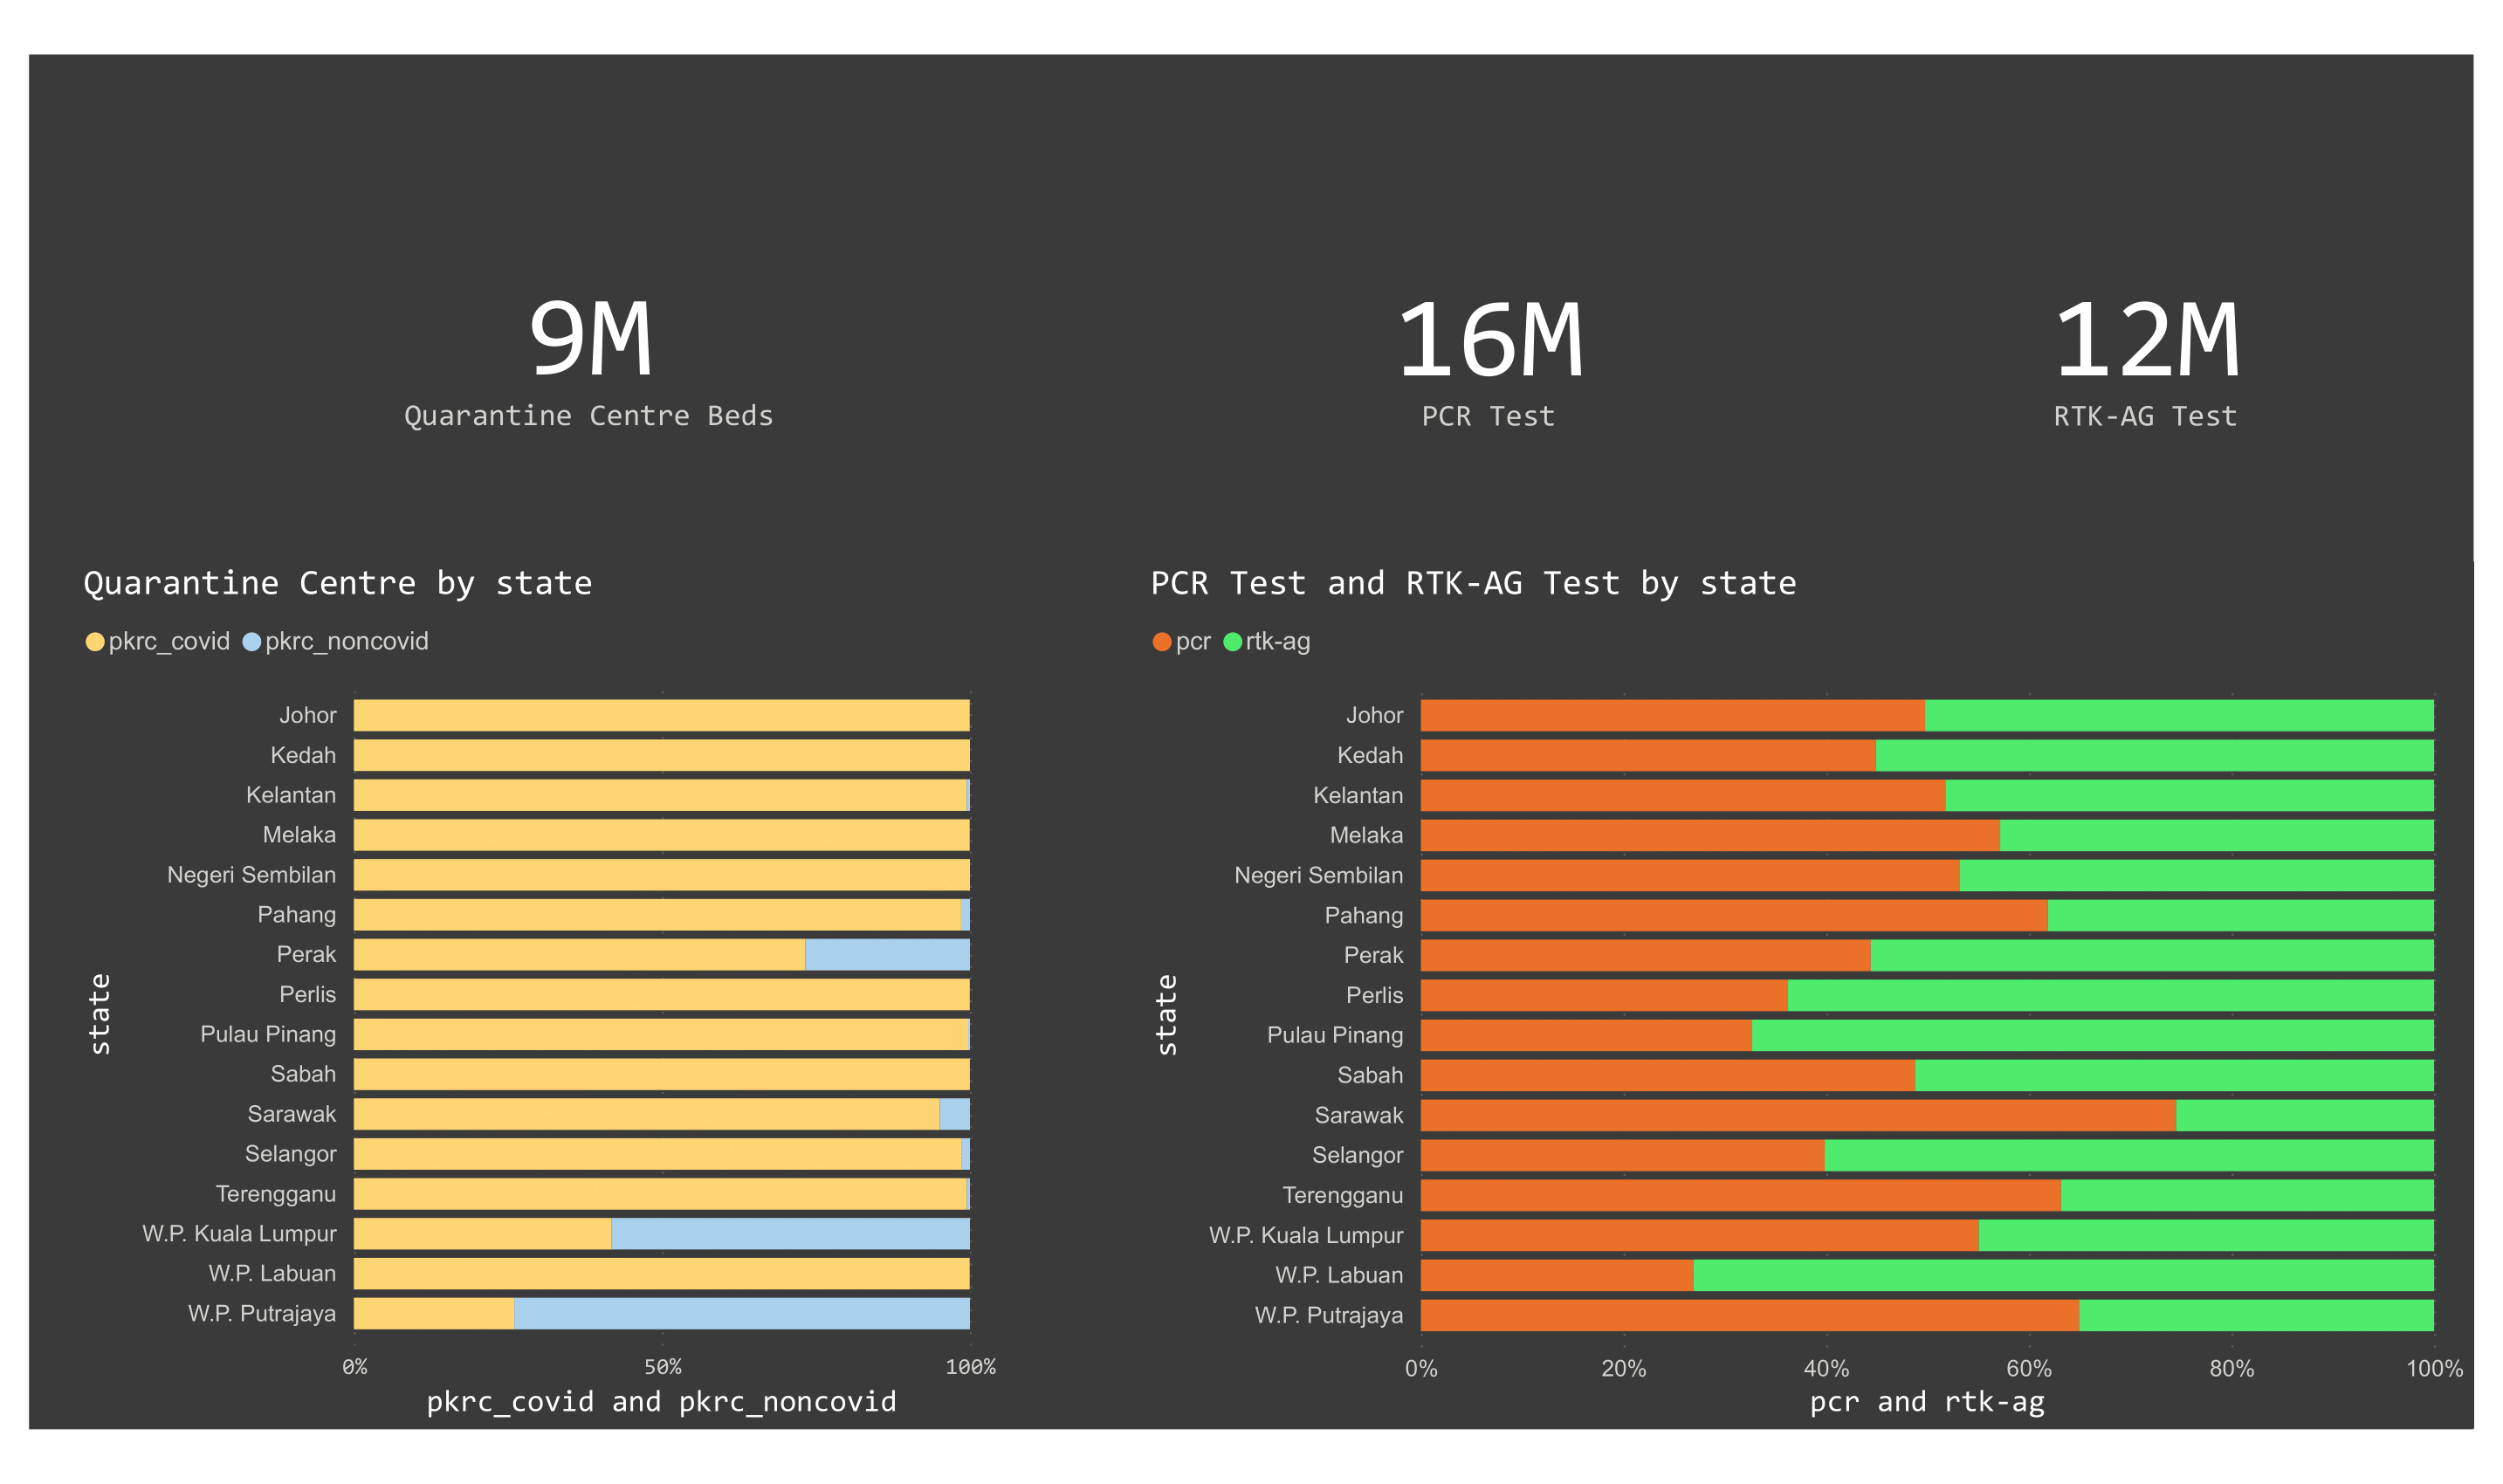

The page's visual inventory and layout, read from the dashboard file:
{"tool":"powerbi","page":{"name":"Page 2","canvas":[1280,720],"ordinal":1},"visuals":[{"type":"card","title":"Ventilation by state","fields":{"Values":["Sum(pkrc.beds)"]},"box":[170.9,84.8,244.6,132],"z":0},{"type":"hundredPercentStackedBarChart","title":"Quarantine Centre by state","fields":{"Y":["Sum(pkrc.pkrc_covid)","Sum(pkrc.pkrc_noncovid)"],"Category":["pkrc.state","pkrc.date.Variation.Date Hierarchy.Year","pkrc.date.Variation.Date Hierarchy.Quarter","pkrc.date.Variation.Date Hierarchy.Month","pkrc.date.Variation.Date Hierarchy.Day"]},"box":[23.6,265.5,487.8,454.5],"z":1000},{"type":"hundredPercentStackedBarChart","title":"PCR Test and RTK-AG Test by state","fields":{"Category":["tests_state.state","tests_state.date.Variation.Date Hierarchy.Year","tests_state.date.Variation.Date Hierarchy.Quarter","tests_state.date.Variation.Date Hierarchy.Month","tests_state.date.Variation.Date Hierarchy.Day"],"Y":["Sum(tests_state.pcr)","Sum(tests_state.rtk-ag)"]},"box":[582.3,265.5,697.7,454.5],"z":2000},{"type":"card","fields":{"Values":["Sum(tests_malaysia.pcr)"]},"box":[669.9,59.8,189,183.5],"z":3000},{"type":"card","fields":{"Values":["Sum(tests_malaysia.rtk-ag)"]},"box":[1015.9,59.8,184.8,183.5],"z":4000}]}

Visuals, with their boxes on the page's 1280x720 design canvas (x1, y1, x2, y2). These are canvas units, not pixel positions in the 2503x1484 screenshot, which may show the page scaled, cropped or inside an application window:
"Ventilation by state" card: box=[171, 85, 416, 217]
"Quarantine Centre by state" hundredPercentStackedBarChart: box=[24, 266, 511, 720]
"PCR Test and RTK-AG Test by state" hundredPercentStackedBarChart: box=[582, 266, 1280, 720]
card - Sum(tests_malaysia.pcr): box=[670, 60, 859, 243]
card - Sum(tests_malaysia.rtk-ag): box=[1016, 60, 1201, 243]
